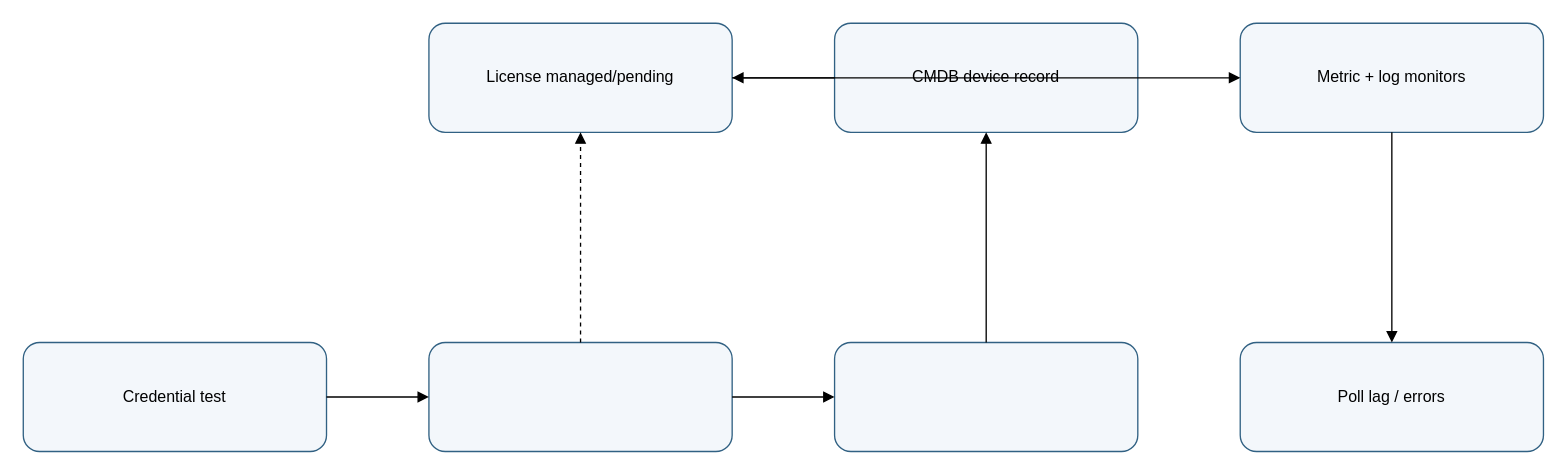
This 1567x475 diagram has some shape labels left out. Here are the shapes that lost their labels. From the top down, the centre of each, then its label:
(580,396): Collector / Supervisor discovery
(985,396): IP and identity correlation
